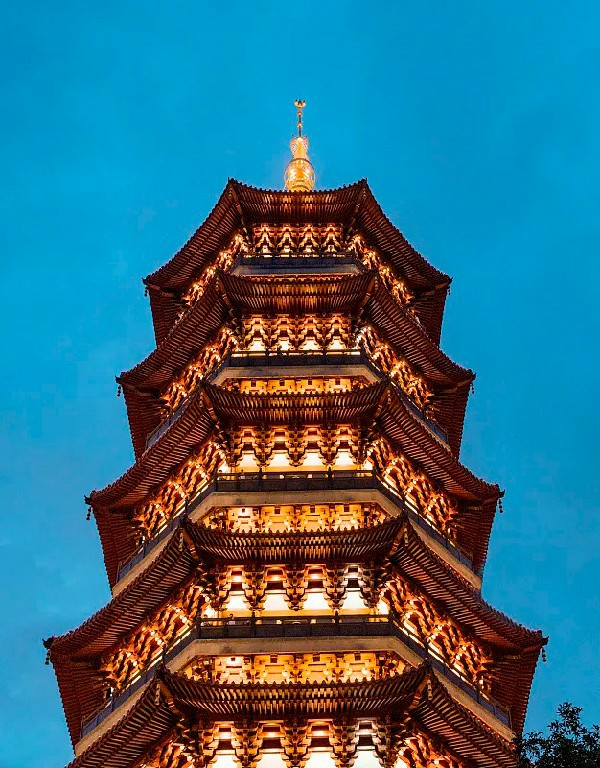Leifeng: (42, 97, 550, 768)
